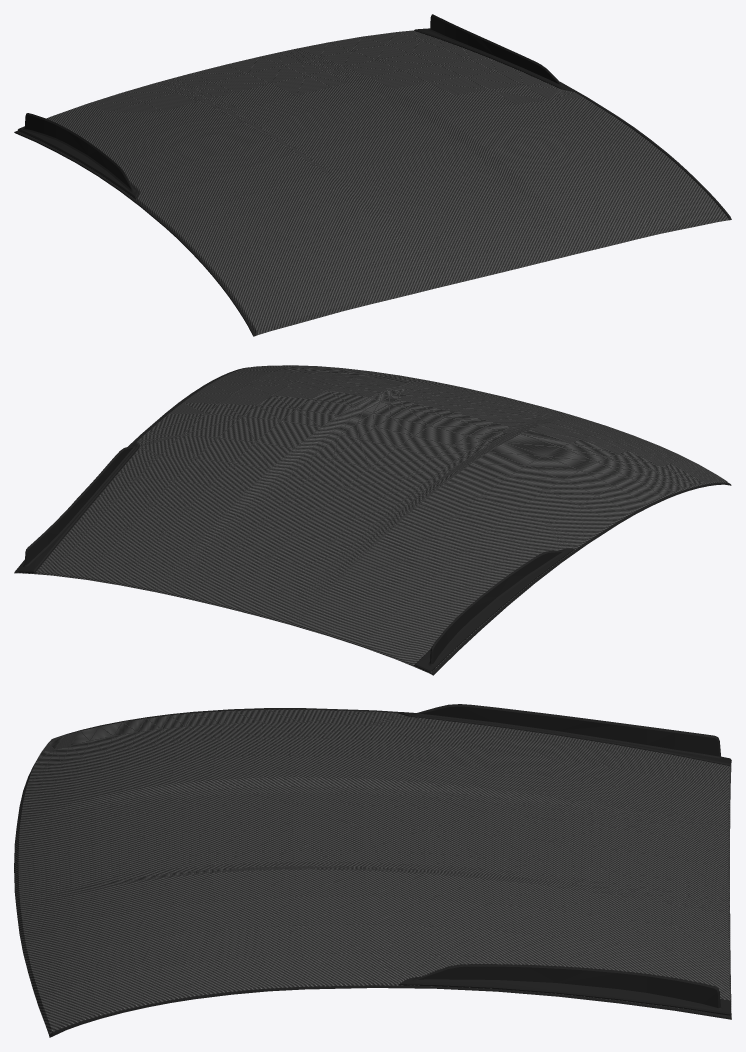
Rendered from carbon_roof.glb.
The picture shows the model from 3 angles, top to bottom: view 1: azimuth 30°, elevation 25°; view 2: azimuth 150°, elevation 25°; view 3: azimuth 270°, elevation 25°; orthographic projection. The views are drawn at different scales.
Parts seen in each view (by area): view 1: TwiXeR_992_gt3rs_carbon_roof_TwiXeR_992_carbon_roof.001_0, TwiXeR_992_gt3rs_carbon_roof_TwiXeR_992_plastic_mgl_060606FF; view 2: TwiXeR_992_gt3rs_carbon_roof_TwiXeR_992_carbon_roof.001_0, TwiXeR_992_gt3rs_carbon_roof_TwiXeR_992_plastic_mgl_060606FF; view 3: TwiXeR_992_gt3rs_carbon_roof_TwiXeR_992_carbon_roof.001_0, TwiXeR_992_gt3rs_carbon_roof_TwiXeR_992_plastic_mgl_060606FF.
Boxes of the visible parts, x1,y1,x2,y2 form: TwiXeR_992_gt3rs_carbon_roof_TwiXeR_992_carbon_roof.001_0: (22, 30, 728, 335); TwiXeR_992_gt3rs_carbon_roof_TwiXeR_992_plastic_mgl_060606FF: (14, 14, 731, 336); TwiXeR_992_gt3rs_carbon_roof_TwiXeR_992_carbon_roof.001_0: (17, 365, 727, 673); TwiXeR_992_gt3rs_carbon_roof_TwiXeR_992_plastic_mgl_060606FF: (14, 367, 731, 675); TwiXeR_992_gt3rs_carbon_roof_TwiXeR_992_carbon_roof.001_0: (14, 709, 731, 1034); TwiXeR_992_gt3rs_carbon_roof_TwiXeR_992_plastic_mgl_060606FF: (49, 704, 731, 1037).
Size of the model in its own units: 1.07 by 0.1123 by 1.09.
2 materials, 1 textured.
